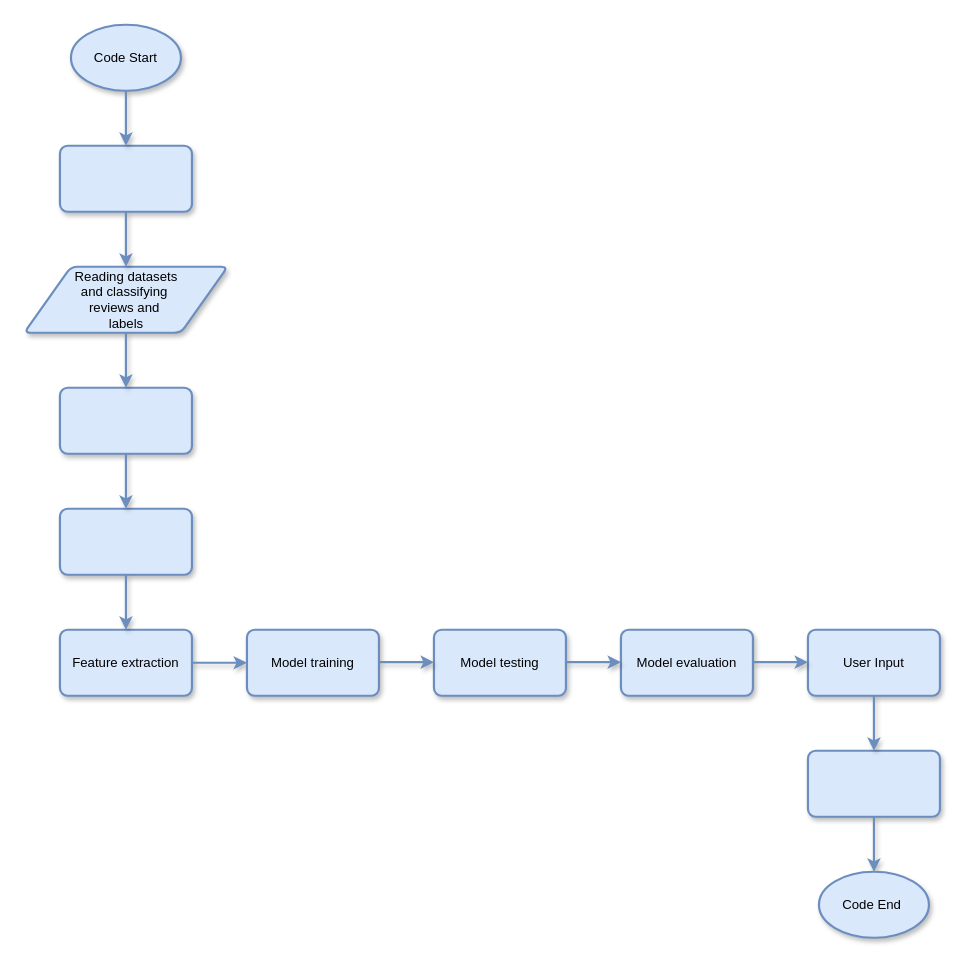
Image size: 967x965. Some labels were removed from this diagram. Each missing label, with the centre of its shape:
Data cleaning: pixel 126 422
Import libraries: pixel 126 180
Predictions: pixel 874 785
Text preprocessing: pixel 126 543
